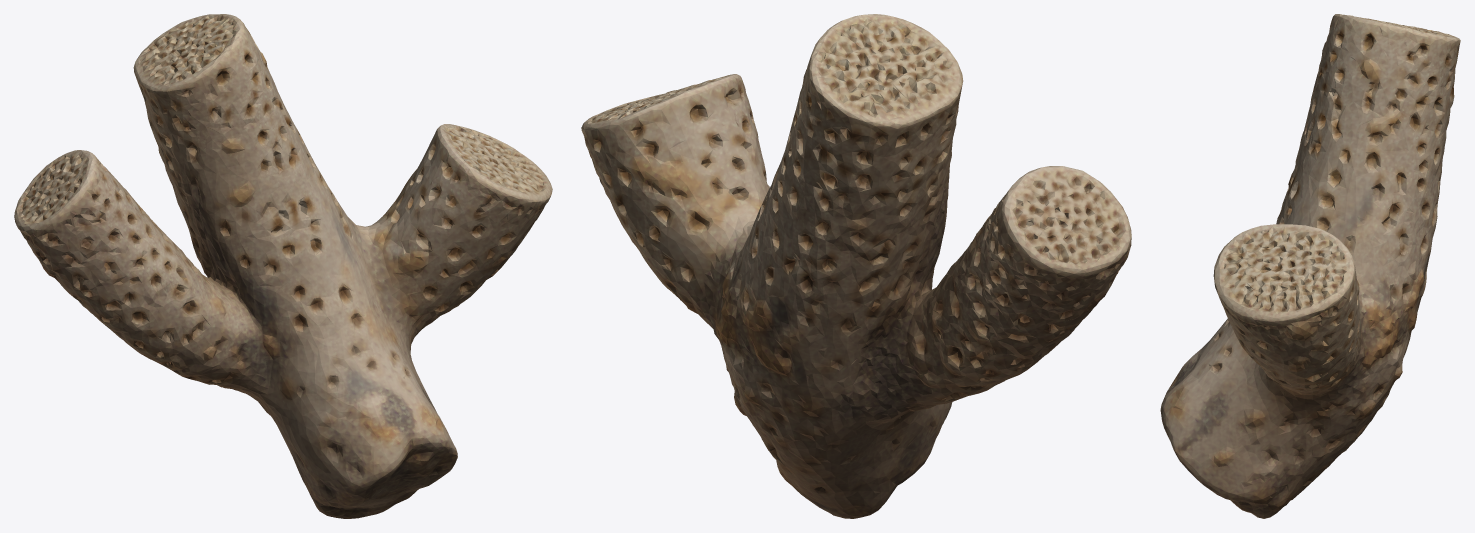
The picture shows the model from 3 angles, left to right: view 1: azimuth 30°, elevation 25°; view 2: azimuth 150°, elevation 25°; view 3: azimuth 270°, elevation 25°; orthographic projection. The views are drawn at different scales.
Parts seen in each view (by area): view 1: world; view 2: world; view 3: world.
Boxes of the visible parts, x1,y1,x2,y2 form: world: (14,14,552,518); world: (581,14,1131,518); world: (1160,14,1460,518).
Bounding box in the file's own units: 1 × 0.9374 × 0.5529.
1 material, 1 textured.
